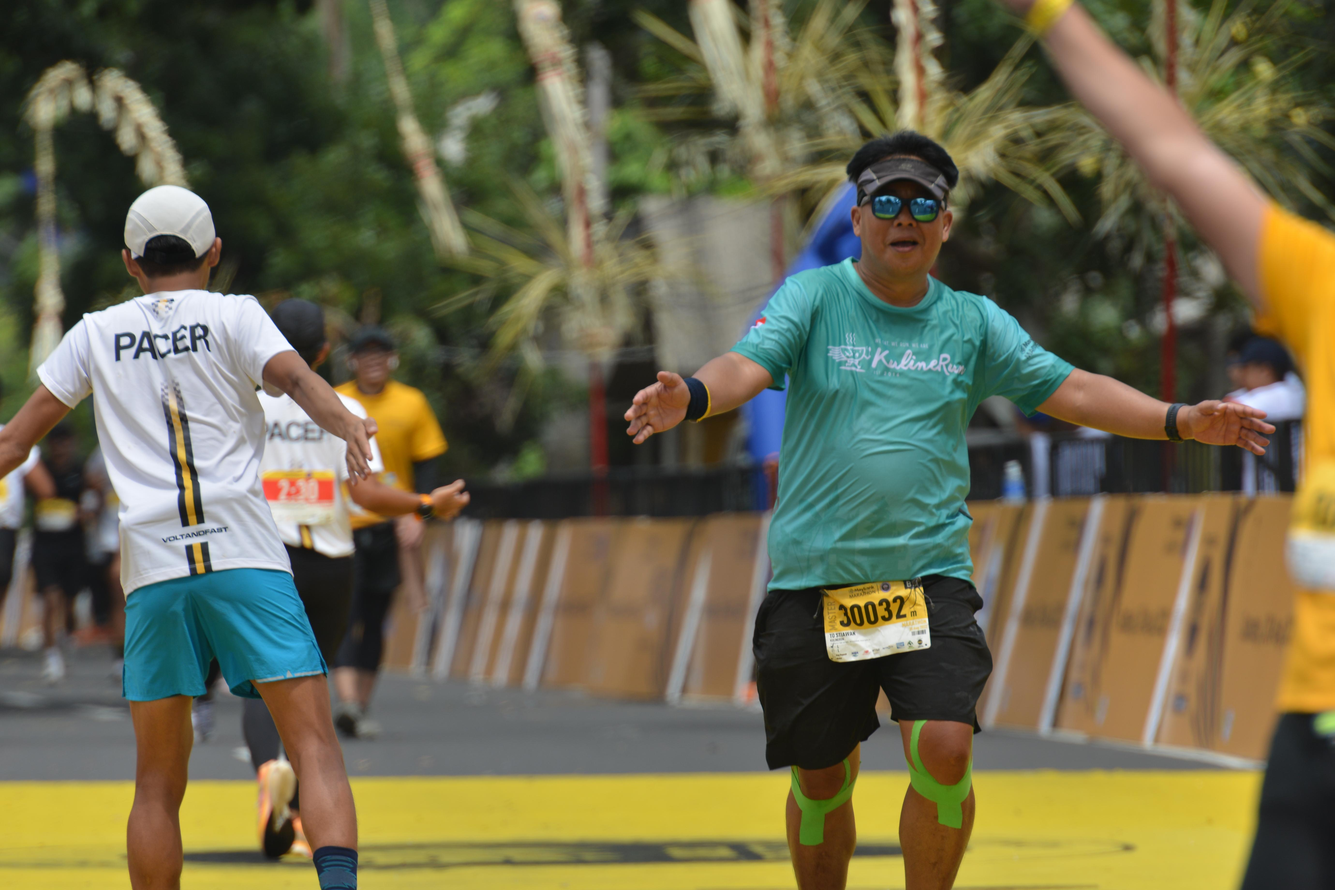bib: (820, 580, 930, 660), (1294, 465, 1335, 588), (261, 468, 337, 521)
